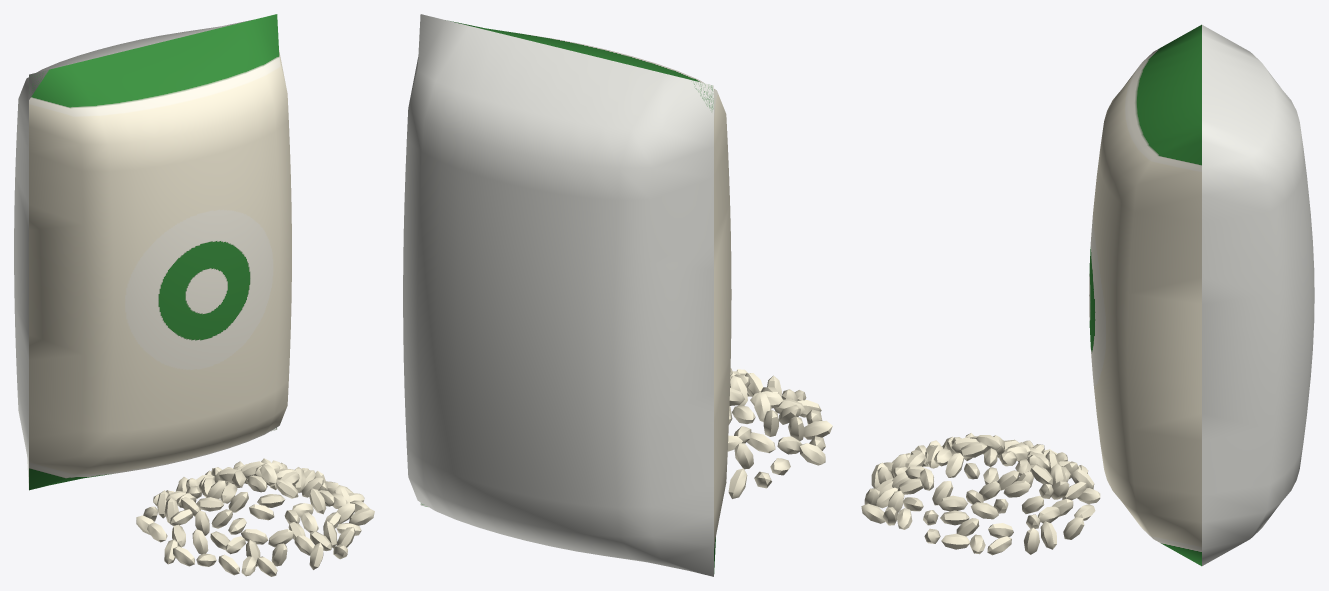
Rendered from Rice.fbx.
The picture shows the model from 3 angles, left to right: view 1: azimuth 30°, elevation 25°; view 2: azimuth 150°, elevation 25°; view 3: azimuth 270°, elevation 25°; orthographic projection. The views are drawn at different scales.
Parts seen in each view (by area): view 1: Rice; view 2: Rice; view 3: Rice.
Boxes of the visible parts, box(x1,y1,x2,y2) form: Rice: box(14, 14, 374, 576); Rice: box(403, 14, 832, 576); Rice: box(861, 24, 1314, 566).
Bounding box in the file's own units: 0.15 × 0.24 × 0.2262.
Materials: 3 (1 with a texture image).
